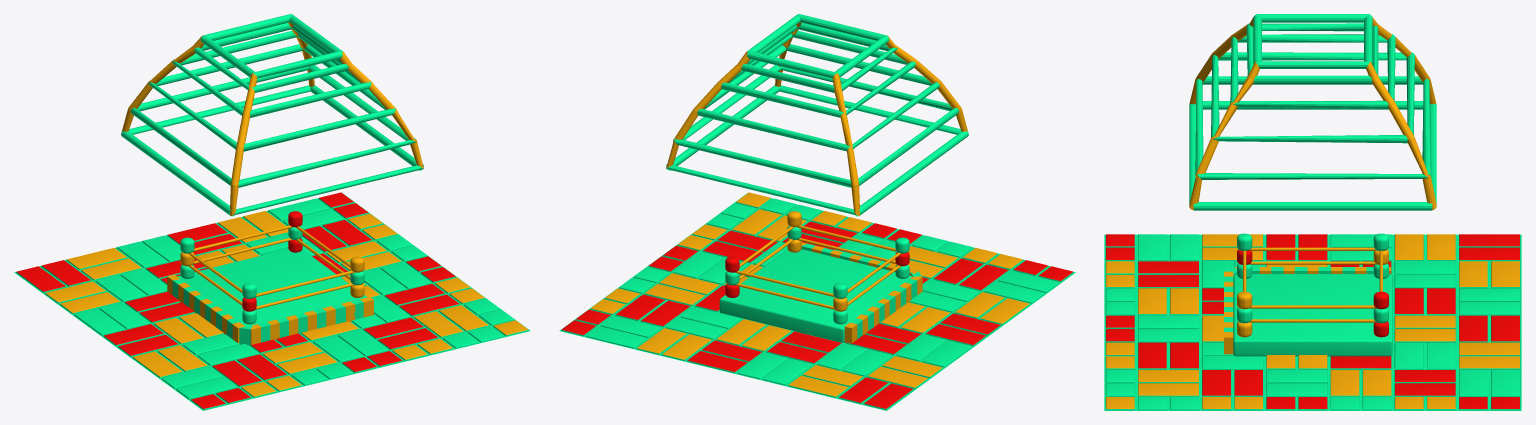
The model's file is Boxing Ring.fbx.
The picture shows the model from 3 angles, left to right: view 1: azimuth 30°, elevation 25°; view 2: azimuth 150°, elevation 25°; view 3: azimuth 270°, elevation 25°; orthographic projection. The views are drawn at different scales.
Visible parts, largest first — view 1: Cube.004; view 2: Cube.004; view 3: Cube.004.
Boxes of the visible parts, <box> form: Cube.004: <box>14,14,530,410</box>; Cube.004: <box>559,14,1075,410</box>; Cube.004: <box>1104,14,1521,410</box>.
Size of the model in its own units: 3078 by 3078 by 2345.
